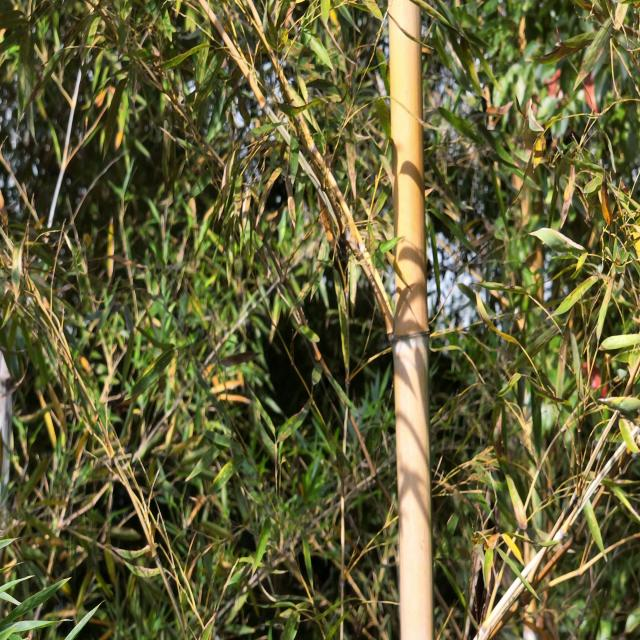Bamboo-shoots: (389, 0, 434, 640)
